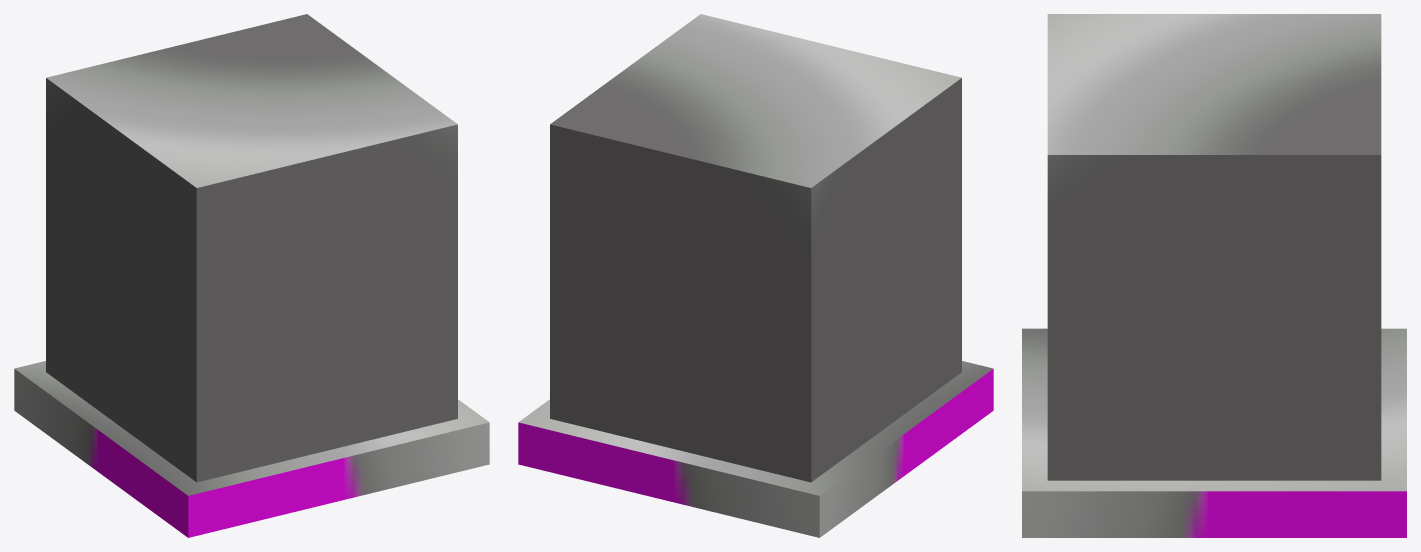
Rendered from tank.obj.
The picture shows the model from 3 angles, left to right: view 1: azimuth 30°, elevation 25°; view 2: azimuth 150°, elevation 25°; view 3: azimuth 270°, elevation 25°; orthographic projection. The views are drawn at different scales.
Parts seen in each view (by area): view 1: Tank_tmdl, BaseplateConnector_pmdl_c; view 2: Tank_tmdl, BaseplateConnector_pmdl_c; view 3: Tank_tmdl, BaseplateConnector_pmdl_c.
Part boxes in pixels (x1,y1,x2,y2): Tank_tmdl: (46,14,457,482); BaseplateConnector_pmdl_c: (14,361,489,537); Tank_tmdl: (550,14,961,482); BaseplateConnector_pmdl_c: (518,361,993,537); Tank_tmdl: (1047,14,1381,480); BaseplateConnector_pmdl_c: (1022,328,1406,537).
Size of the model in its own units: 0.9375 by 1 by 0.9375.
